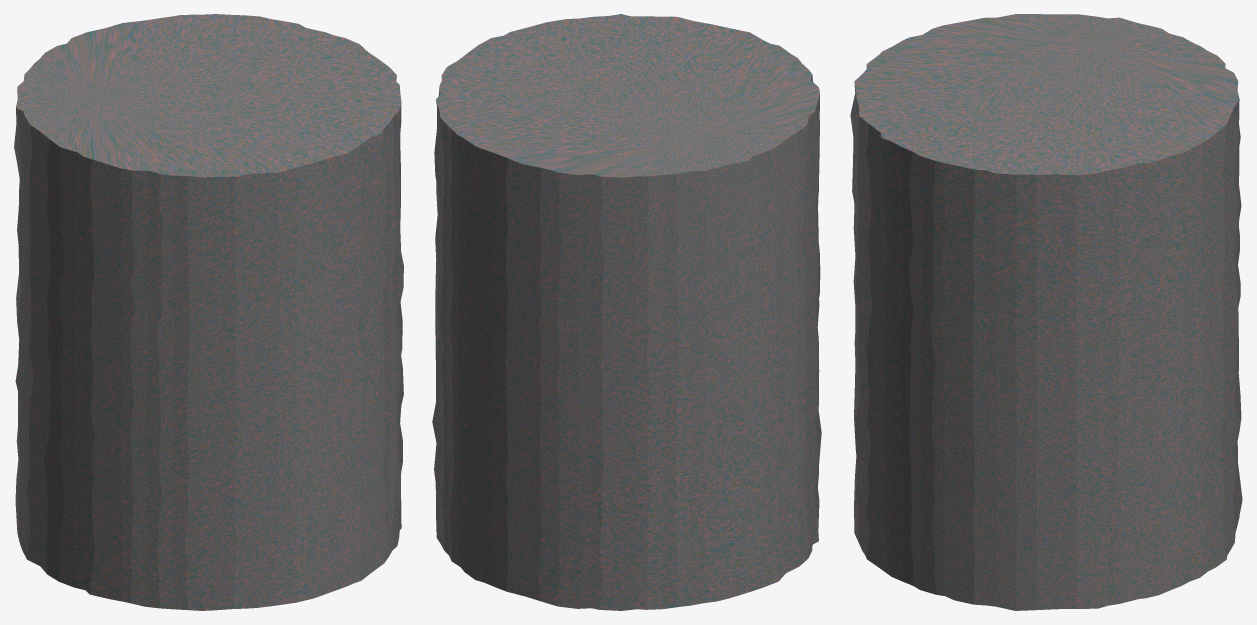
File: barrel_0.dae
3 views of the same model, side by side, from view 1: azimuth 30°, elevation 25°; view 2: azimuth 150°, elevation 25°; view 3: azimuth 270°, elevation 25° (orthographic).
Parts seen in each view (by area): view 1: Cylinder; view 2: Cylinder; view 3: Cylinder.
Part boxes in pixels (<box>): Cylinder: <box>14,14,403,610</box>; Cylinder: <box>432,14,821,610</box>; Cylinder: <box>850,14,1242,610</box>.
Bounding box in the file's own units: 0.8188 × 0.8176 × 1.
Materials: 1 (1 with a texture image).
